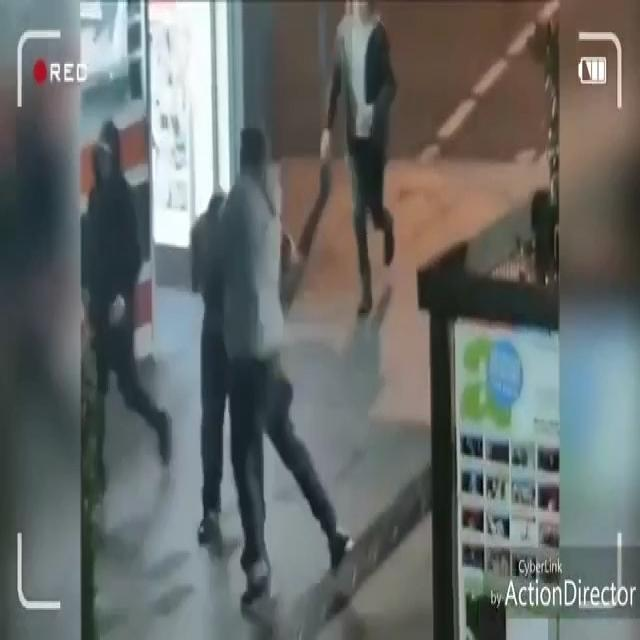fight: (186, 129, 354, 613)
